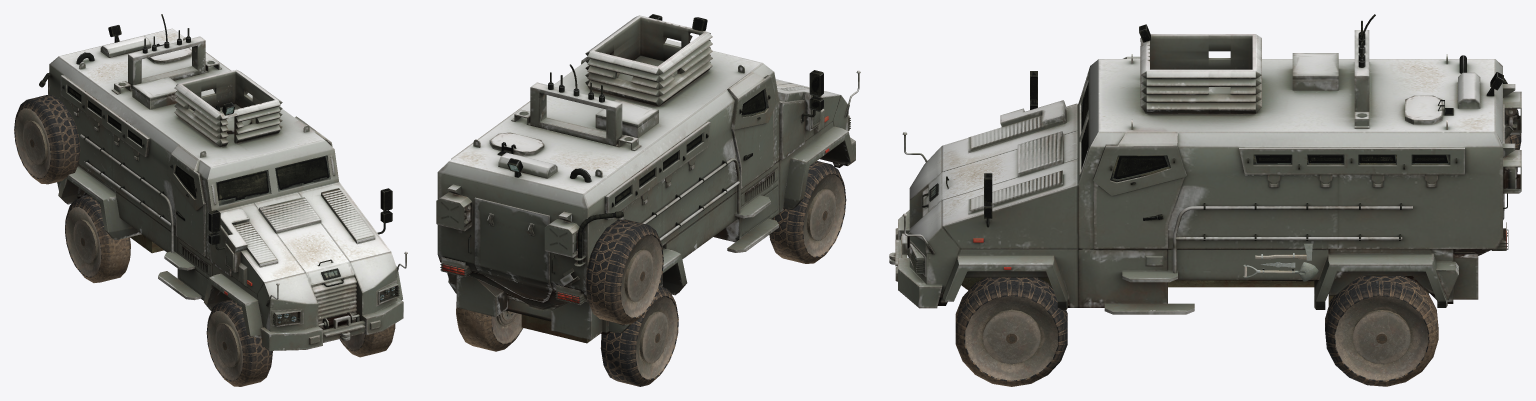
File: kirpi_mrap_lowpoly.glb
3 renders of one model, left to right at view 1: azimuth 30°, elevation 25°; view 2: azimuth 150°, elevation 25°; view 3: azimuth 270°, elevation 25°, orthographic. The views are drawn at different scales.
Parts seen in each view (by area): view 1: Object_5, Object_6, Object_4, Object_2, Object_3; view 2: Object_5, Object_6, Object_4, Object_2, Object_3; view 3: Object_6, Object_5, Object_4, Object_2, Object_3.
Boxes of the visible parts, x1,y1,x2,y2 form: Object_5: [48, 28, 407, 350]; Object_6: [48, 36, 403, 350]; Object_4: [14, 95, 395, 386]; Object_2: [39, 25, 399, 325]; Object_3: [39, 14, 394, 323]; Object_5: [436, 15, 860, 340]; Object_6: [436, 39, 855, 339]; Object_4: [456, 161, 846, 386]; Object_2: [441, 16, 850, 304]; Object_3: [440, 14, 828, 343]; Object_6: [895, 30, 1521, 309]; Object_5: [889, 34, 1521, 314]; Object_4: [955, 110, 1521, 386]; Object_2: [910, 14, 1508, 289]; Object_3: [914, 14, 1508, 305].
Bounding box in the file's own units: 302 × 411 × 719.
Materials: 3 (3 with a texture image).
